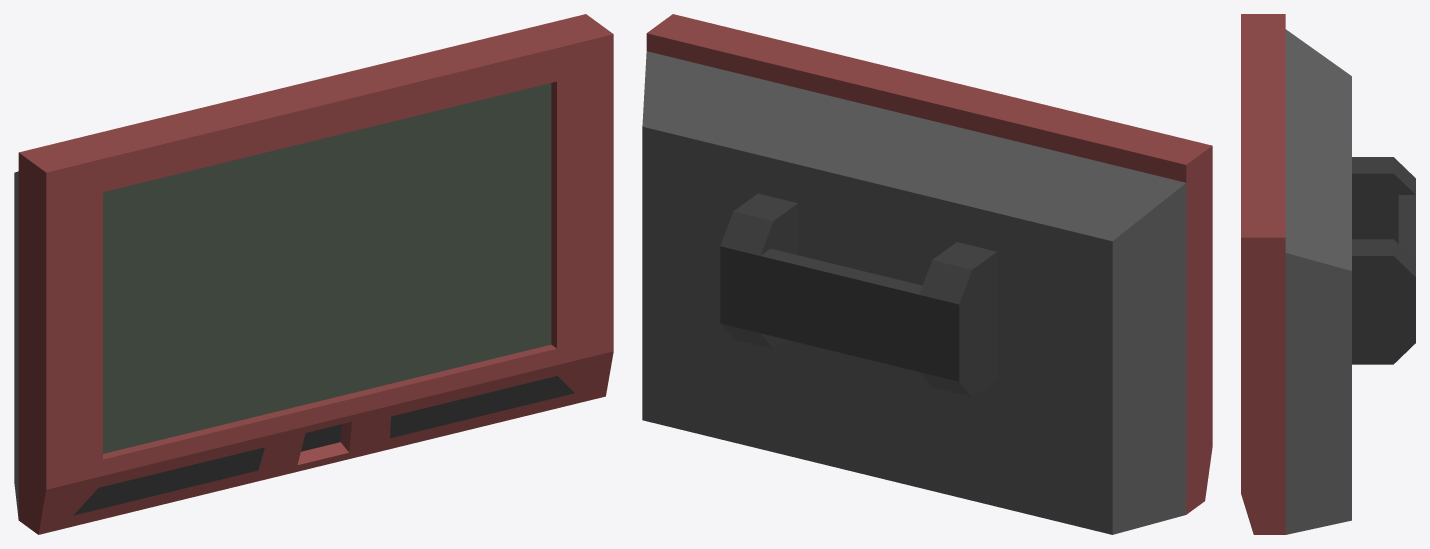
Rendered from TelevisionSet16.fbx.
3 views of the same model, side by side, from view 1: azimuth 30°, elevation 25°; view 2: azimuth 150°, elevation 25°; view 3: azimuth 270°, elevation 25° (orthographic). The views are drawn at different scales.
Visible parts, largest first — view 1: Cube.001; view 2: Cube.001; view 3: Cube.001.
Boxes of the visible parts, x1,y1,x2,y2 form: Cube.001: (14,14,613,534); Cube.001: (642,14,1212,534); Cube.001: (1241,14,1415,534).
Size of the model in its own units: 1.6 by 0.9917 by 0.5288.
